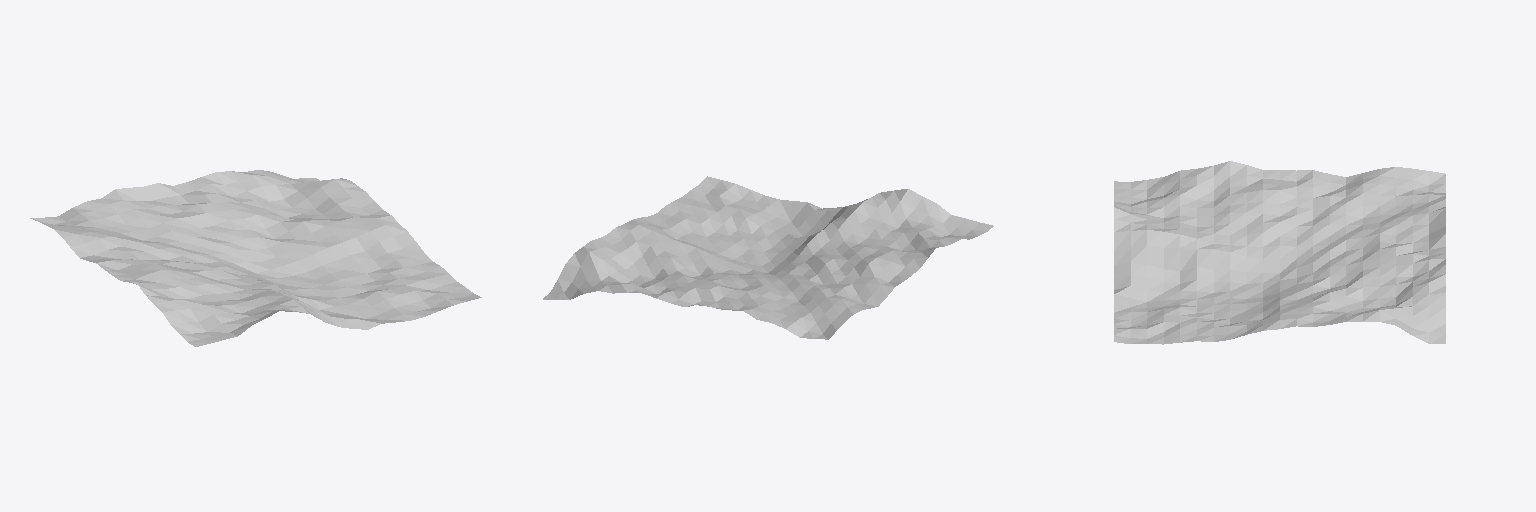
The model's file is gras.obj.
The picture shows the model from 3 angles: view 1: azimuth 30°, elevation 25°; view 2: azimuth 150°, elevation 25°; view 3: azimuth 270°, elevation 25°; orthographic projection.
Visible parts, largest first — view 1: Landscape; view 2: Landscape; view 3: Landscape.
Part boxes in pixels (x1,y1,x2,y2): Landscape: (30, 170, 481, 346); Landscape: (543, 176, 993, 339); Landscape: (1114, 161, 1445, 344).
Size of the model in its own units: 30 by 5 by 30.